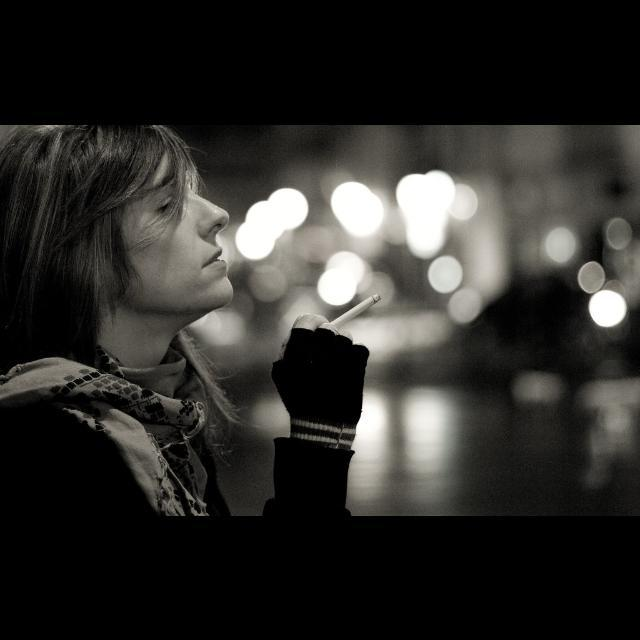rokok: (323, 292, 383, 330)
